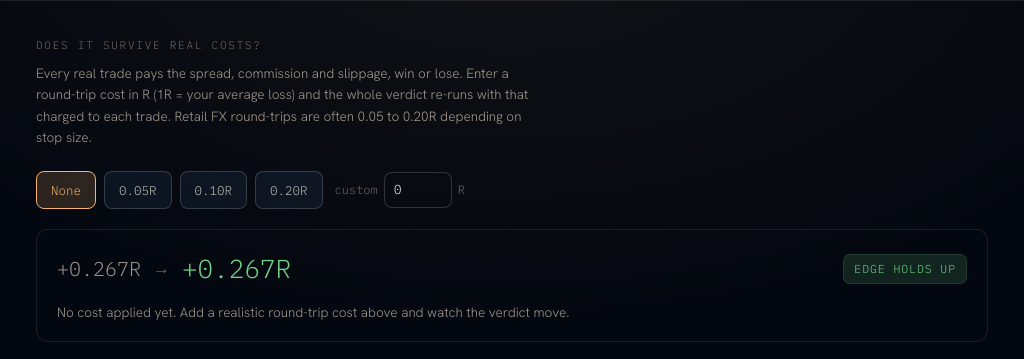
Test case: CostStress › flips to NO EDGE and warns it does not survive under a heavy cost
Replace the text in the number field named "Custom round-trip cost" with "0.4". click: [418, 190]
box: [384, 172, 452, 208]
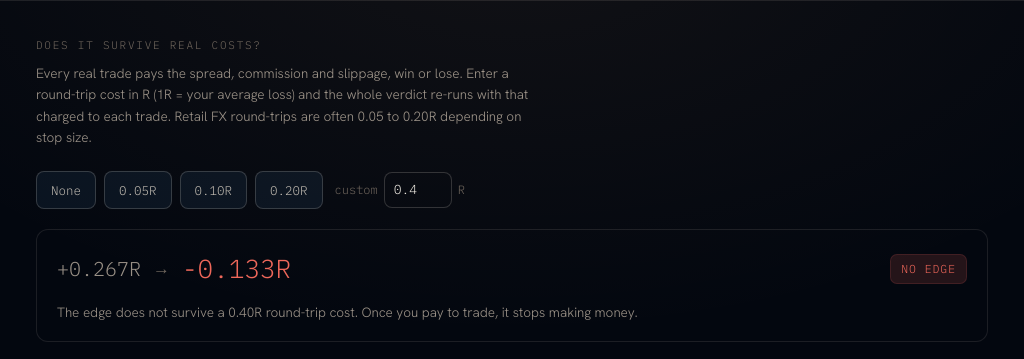
expect the text "NO EDGE" is shown: met, box [890, 254, 967, 284]
expect the text "does not survive" is shown: met, box [57, 303, 638, 321]
